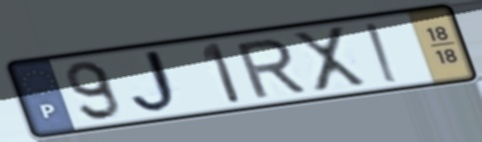1: (199, 40, 246, 105)
9: (62, 60, 124, 122)
I: (361, 20, 403, 86)
J: (129, 46, 187, 117)
R: (231, 36, 310, 102)
X: (288, 23, 371, 95)
